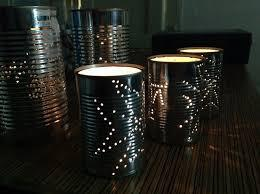Tin: (2, 5, 243, 185)
